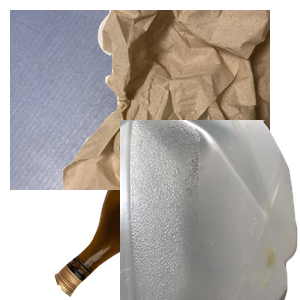cardboard: (10, 10, 250, 190)
glass: (52, 147, 292, 300)
plastic: (120, 120, 300, 300)
trash: (60, 10, 300, 190)
